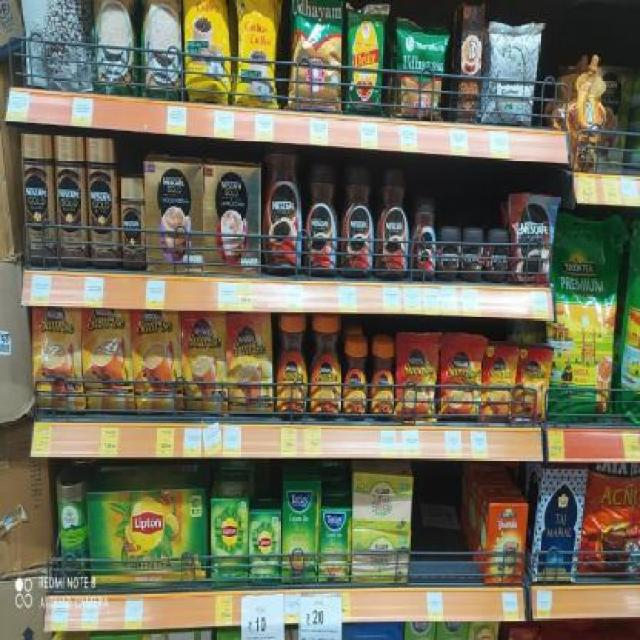Coffee: (83, 307, 132, 413), (34, 307, 83, 411), (262, 144, 301, 274), (132, 310, 180, 412), (182, 312, 227, 414), (228, 313, 272, 413), (303, 162, 339, 278), (23, 136, 54, 266), (376, 164, 410, 276), (56, 136, 84, 267), (341, 165, 373, 278), (89, 139, 116, 269), (275, 314, 308, 418), (309, 314, 342, 418), (515, 196, 551, 284), (442, 336, 480, 415), (399, 336, 435, 416), (120, 177, 144, 271), (412, 195, 437, 282), (370, 342, 395, 420), (343, 344, 368, 419), (437, 225, 460, 280), (487, 230, 510, 284), (462, 226, 484, 282)
